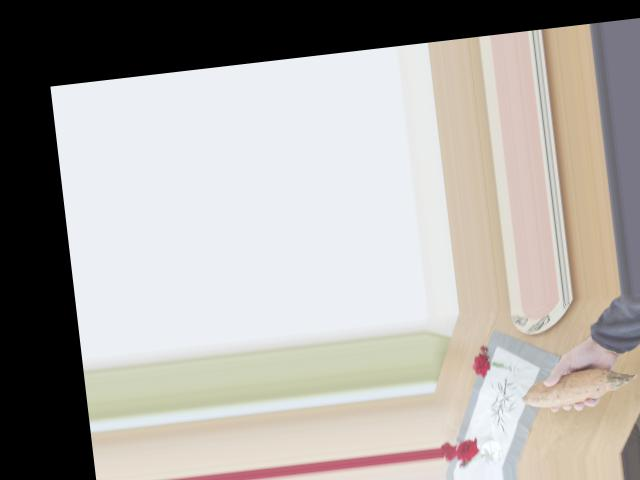sweet_potato: (516, 355, 630, 415)
